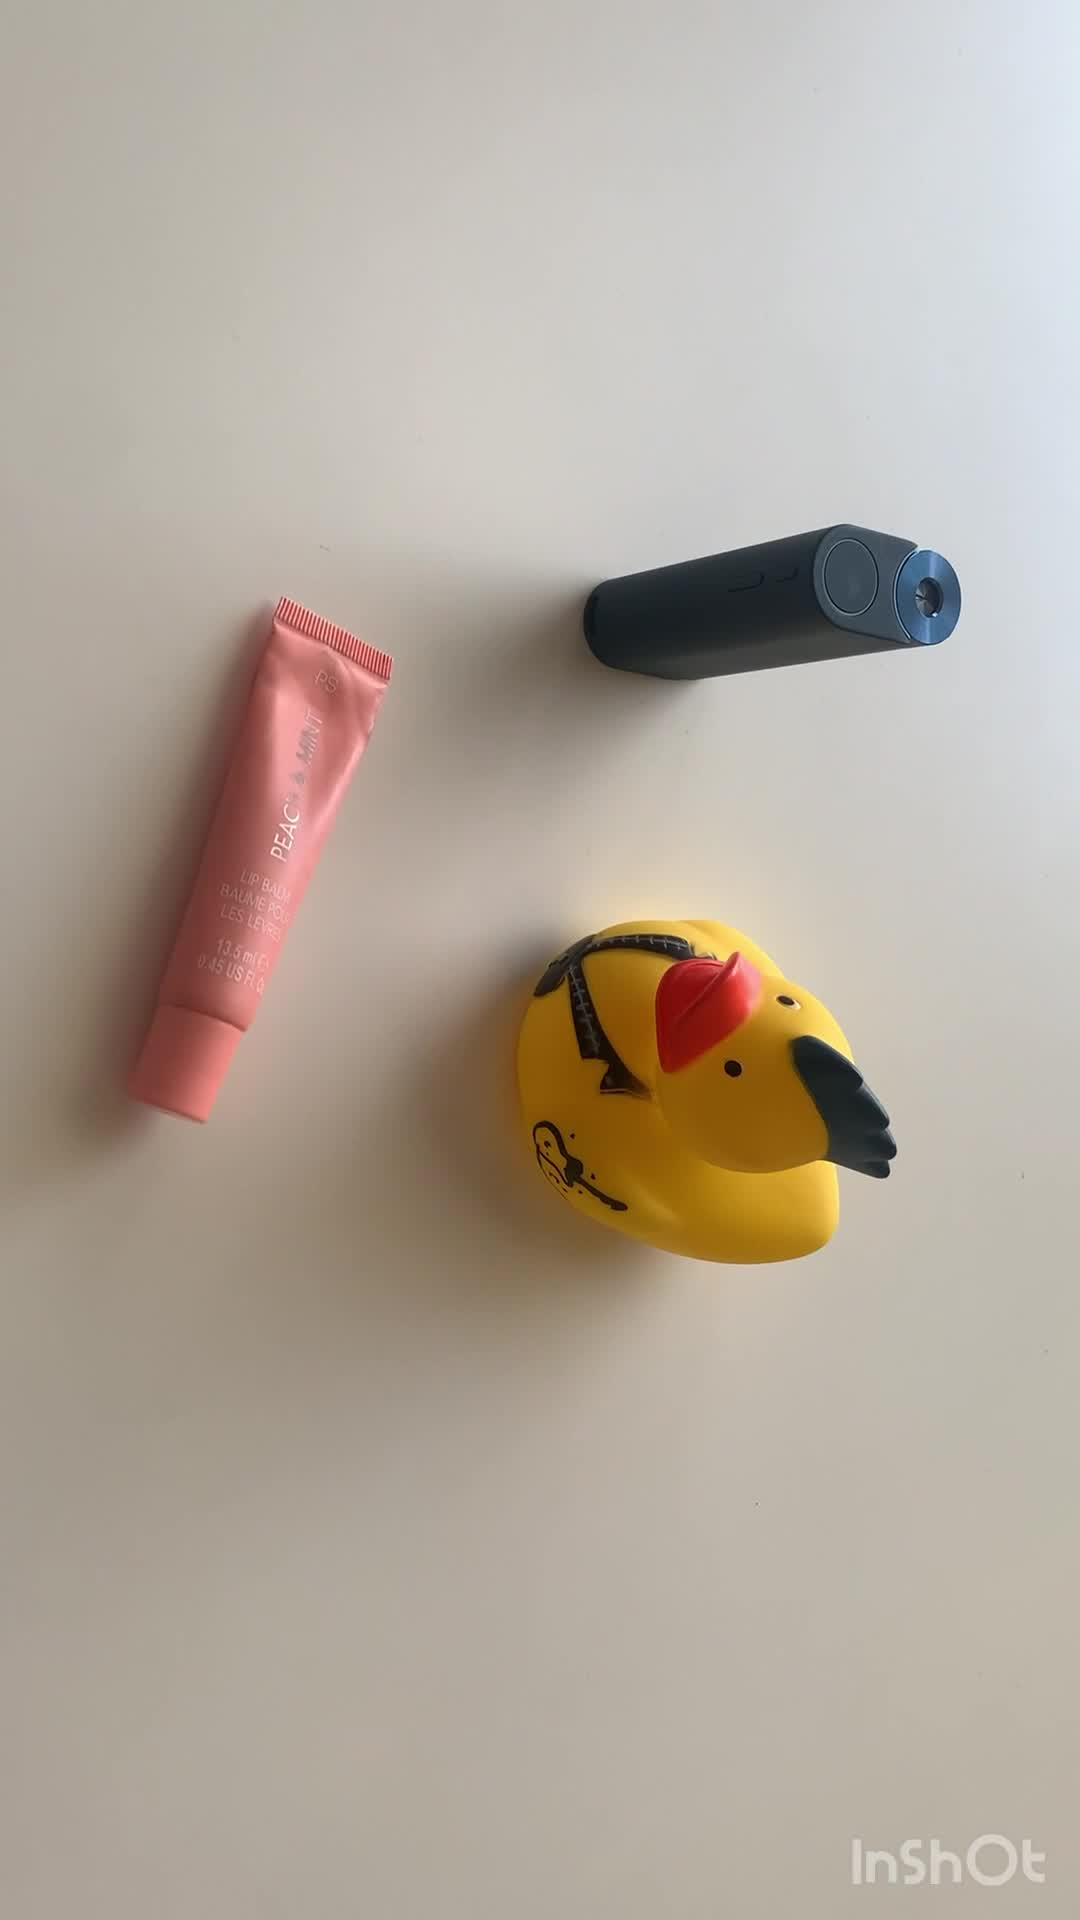duck: (510, 913, 899, 1267)
glo: (578, 518, 963, 694)
lip balm: (127, 597, 392, 1126)
